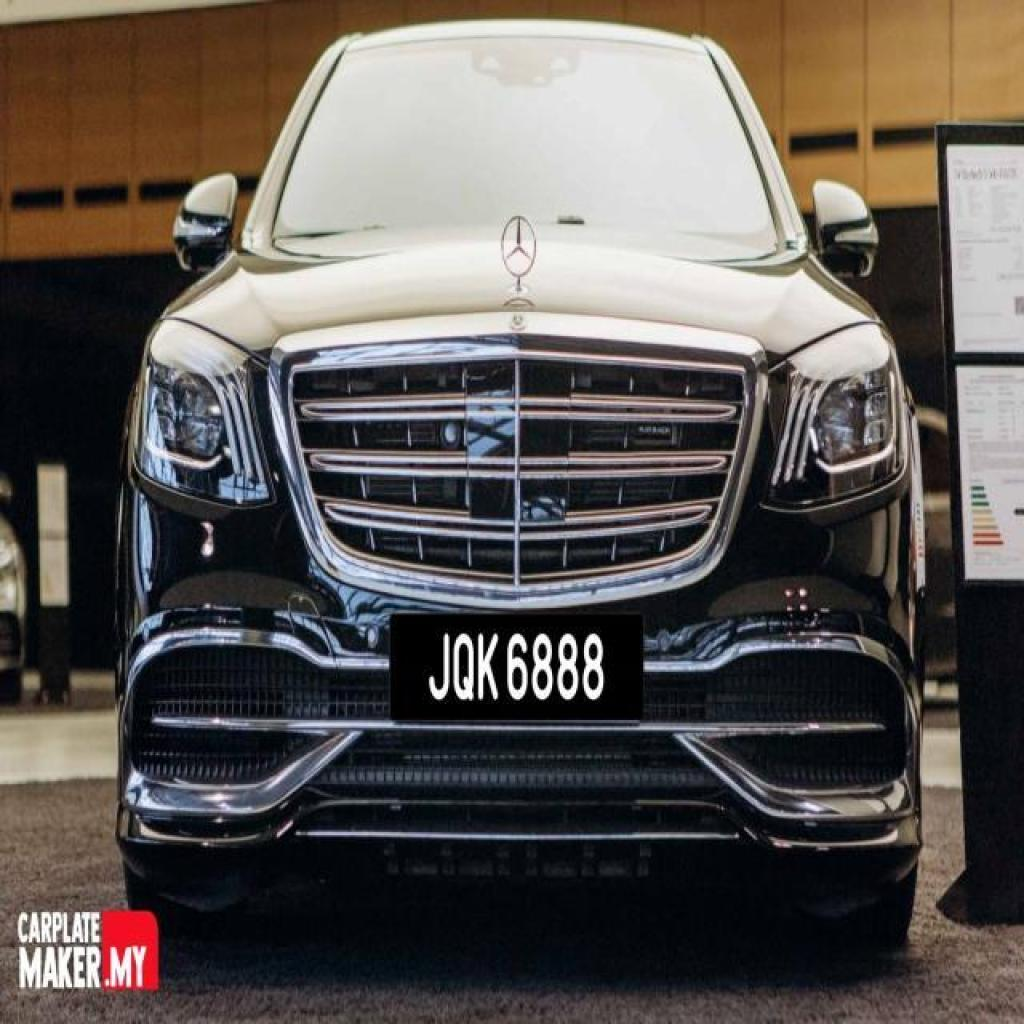car: (115, 19, 920, 939)
car plate: (389, 614, 640, 722)
